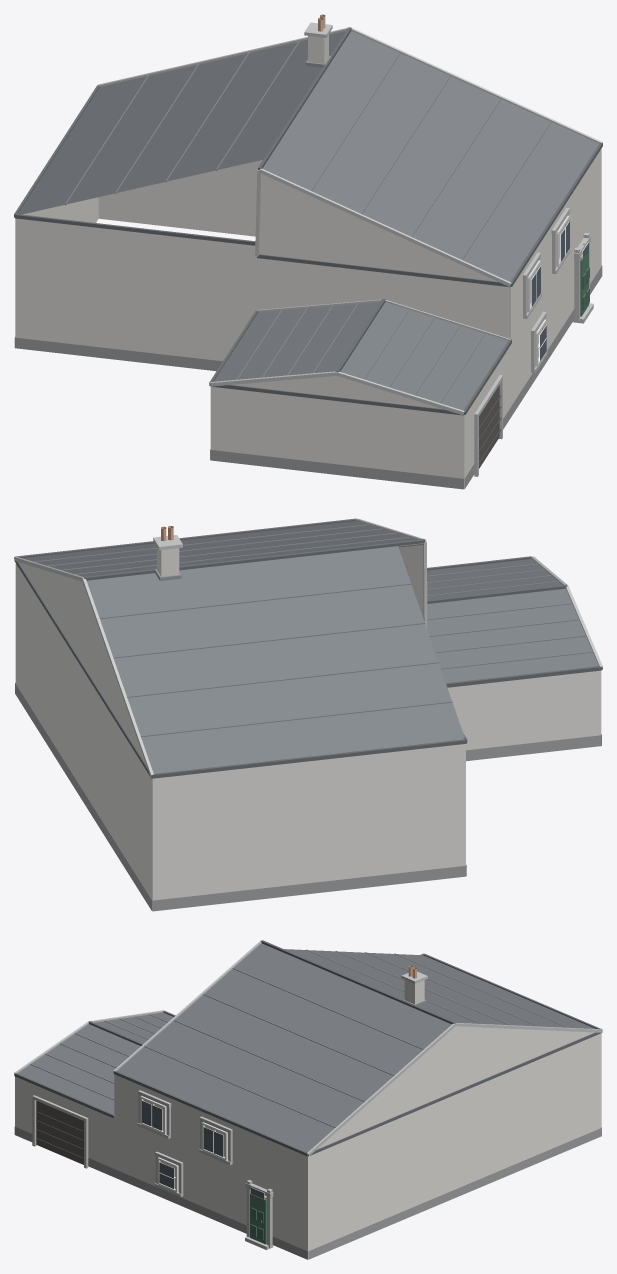
3 views of the same model, one above another, from view 1: azimuth 30°, elevation 25°; view 2: azimuth 150°, elevation 25°; view 3: azimuth 270°, elevation 25° (orthographic). The views are drawn at different scales.
Visible parts, largest first — view 1: slate, harl, stone_band, slate_dk, plinth, slate_lt, pend_dark, frame; view 2: slate, harl, slate_dk, plinth, slate_lt, stone_band, chim_render; view 3: harl, slate, stone_band, plinth, slate_dk, slate_lt, pend_dark, frame, door_green, chim_render.
Boxes of the visible parts, bbox=[...] form: slate: bbox=[18, 31, 598, 410]; harl: bbox=[15, 148, 601, 488]; stone_band: bbox=[98, 22, 602, 476]; slate_dk: bbox=[14, 27, 602, 415]; plinth: bbox=[14, 265, 602, 489]; slate_lt: bbox=[65, 41, 551, 403]; pend_dark: bbox=[479, 385, 499, 468]; frame: bbox=[527, 215, 585, 366]; slate: bbox=[22, 521, 598, 773]; harl: bbox=[15, 545, 601, 910]; slate_dk: bbox=[14, 518, 602, 778]; plinth: bbox=[15, 683, 601, 911]; slate_lt: bbox=[34, 524, 593, 737]; stone_band: bbox=[14, 518, 602, 777]; chim_render: bbox=[157, 547, 179, 576]; harl: bbox=[15, 1026, 601, 1259]; slate: bbox=[18, 943, 595, 1152]; stone_band: bbox=[14, 940, 602, 1249]; plinth: bbox=[14, 1126, 601, 1259]; slate_dk: bbox=[14, 940, 602, 1156]; slate_lt: bbox=[30, 949, 569, 1127]; pend_dark: bbox=[36, 1101, 83, 1164]; frame: bbox=[140, 1096, 266, 1197]; door_green: bbox=[250, 1193, 266, 1244]; chim_render: bbox=[404, 980, 424, 1004].
Size of the model in its own units: 20.25 by 10.03 by 25.16.
